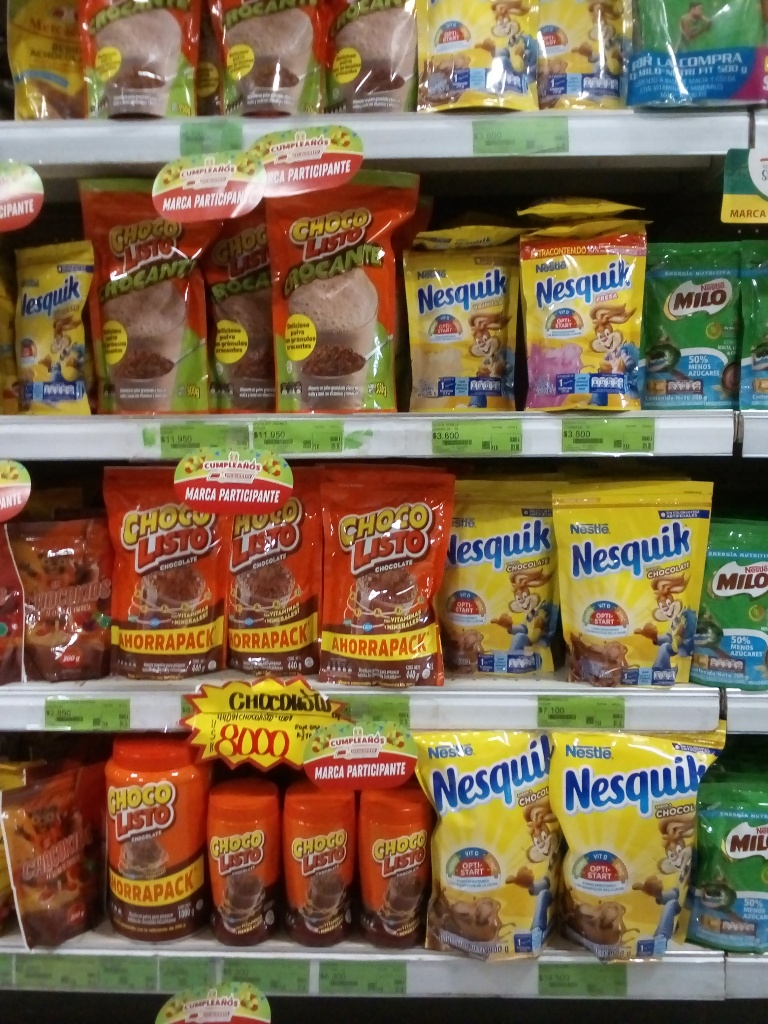COL0170102DYP25000: (90, 2, 198, 112)
COL0170102DYP50000: (67, 162, 218, 412)
COL0170103DYP44000: (108, 466, 226, 678)
COL0170103TRR00100: (103, 742, 206, 948)
COL0170103TRR30000: (210, 780, 282, 949)
COL0170205DYP20000: (695, 513, 768, 687)
COL0170303DYP20000: (413, 1, 535, 113)
COL0170306DYP20000: (6, 231, 92, 421)
